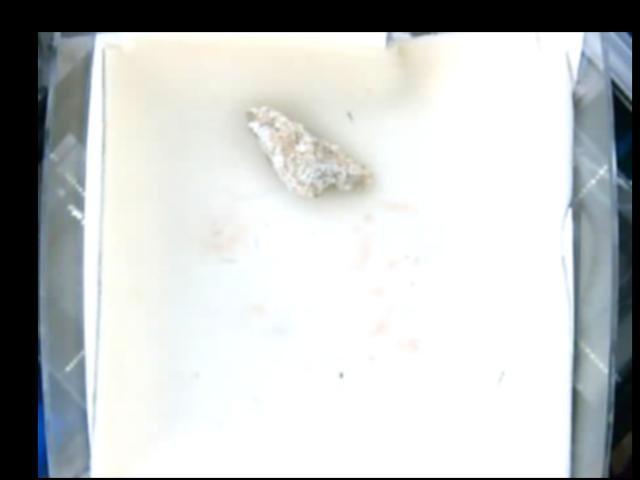Brisk: (241, 99, 373, 196)
